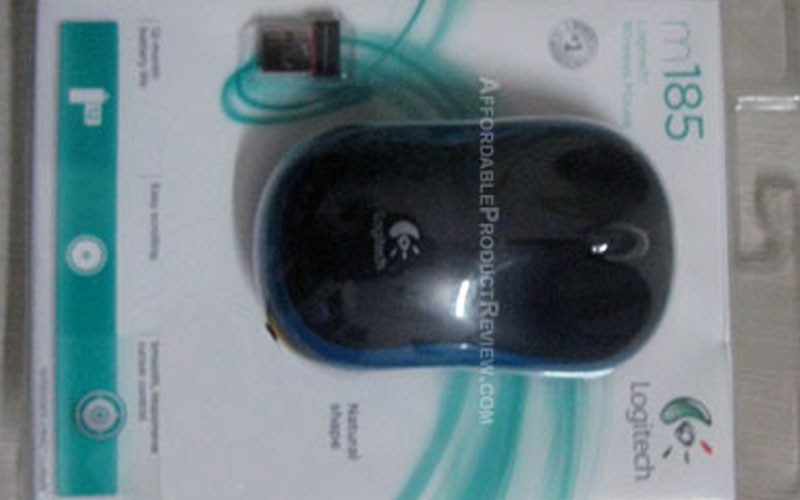logitech-mouse-m185: (254, 119, 678, 380)
